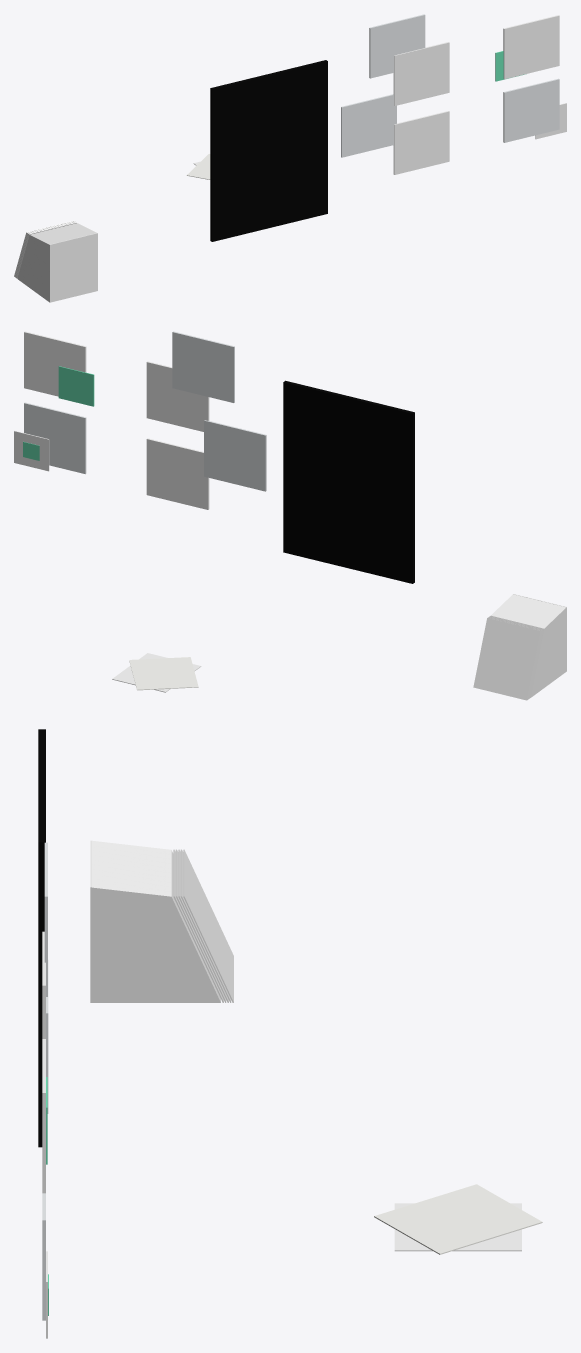
The model's file is papers misc.fbx.
3 renders of one model, top to bottom at view 1: azimuth 30°, elevation 25°; view 2: azimuth 150°, elevation 25°; view 3: azimuth 270°, elevation 25°, orthographic. The views are drawn at different scales.
Visible parts, largest first — view 1: pPlane30, pPlane3, pPlane23, pPlane24, pPlane10, pPlane22, pPlane29, pPlane28; view 2: pPlane30, pPlane8, pPlane28, pPlane29, pPlane10, pPlane3, pPlane24, pPlane22, pPlane23, pPlane1, pPlane25, pPlane26; view 3: pPlane3, pPlane1, pPlane30, pPlane8, pPlane9.
Boxes of the visible parts, <box> form: pPlane30: <box>210,60,327,241</box>; pPlane3: <box>17,223,97,302</box>; pPlane23: <box>503,15,559,79</box>; pPlane24: <box>503,78,559,142</box>; pPlane10: <box>393,111,449,174</box>; pPlane22: <box>393,42,449,105</box>; pPlane29: <box>341,94,396,157</box>; pPlane28: <box>369,14,425,78</box>; pPlane30: <box>283,380,414,583</box>; pPlane8: <box>473,618,540,700</box>; pPlane28: <box>172,331,234,402</box>; pPlane29: <box>204,420,266,491</box>; pPlane10: <box>146,438,209,509</box>; pPlane3: <box>491,594,566,697</box>; pPlane24: <box>24,402,86,474</box>; pPlane22: <box>146,361,209,431</box>; pPlane23: <box>24,331,86,396</box>; pPlane1: <box>129,657,198,690</box>; pPlane25: <box>58,366,94,406</box>; pPlane26: <box>14,430,49,471</box>; pPlane3: <box>90,840,220,1002</box>; pPlane1: <box>374,1184,542,1254</box>; pPlane30: <box>38,729,45,1147</box>; pPlane8: <box>183,849,233,1002</box>; pPlane9: <box>394,1203,521,1251</box>.
Bounding box in the file's own units: 16.2 × 6.39 × 6.99.
